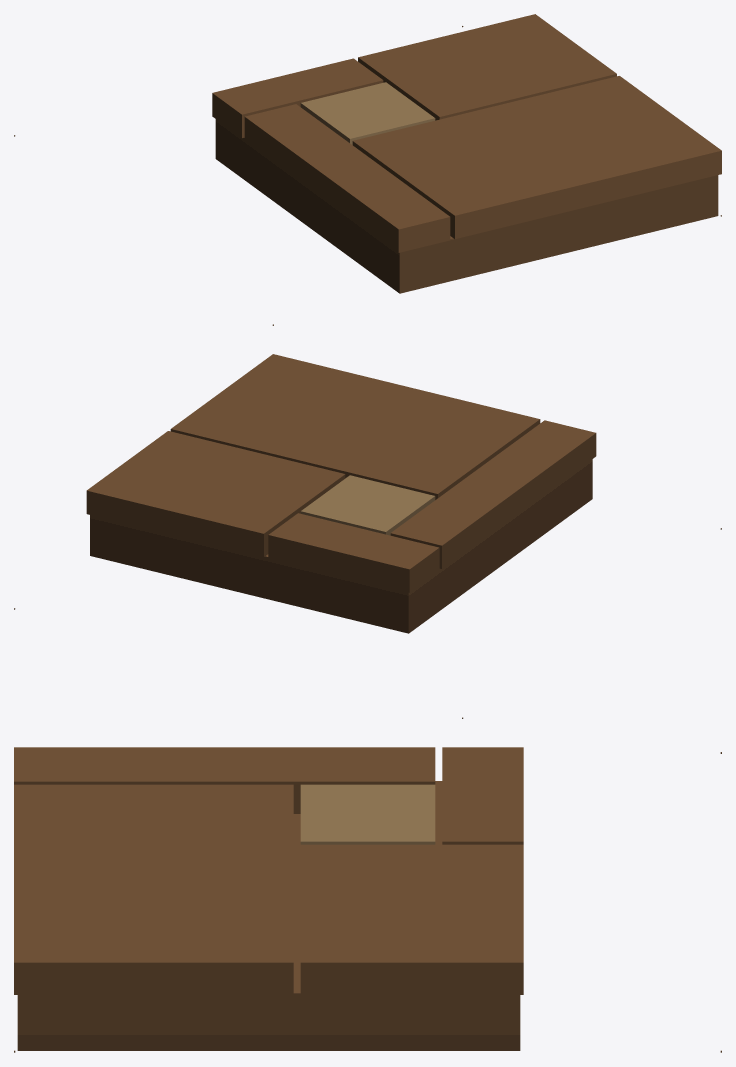
File: floor_wood_corner.glb
The picture shows the model from 3 angles, top to bottom: view 1: azimuth 30°, elevation 25°; view 2: azimuth 150°, elevation 25°; view 3: azimuth 270°, elevation 25°; orthographic projection. The views are drawn at different scales.
Bounding box in the file's own units: 1 × 0.14 × 1.
1 material, 1 textured.
